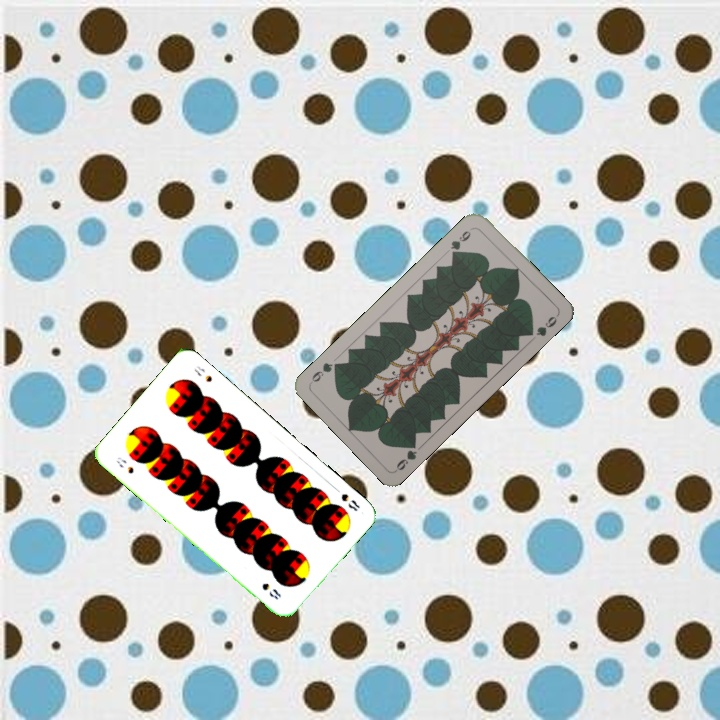G9: (446, 223, 476, 259), (392, 437, 420, 474)
S8: (337, 489, 362, 514), (112, 453, 137, 476)
